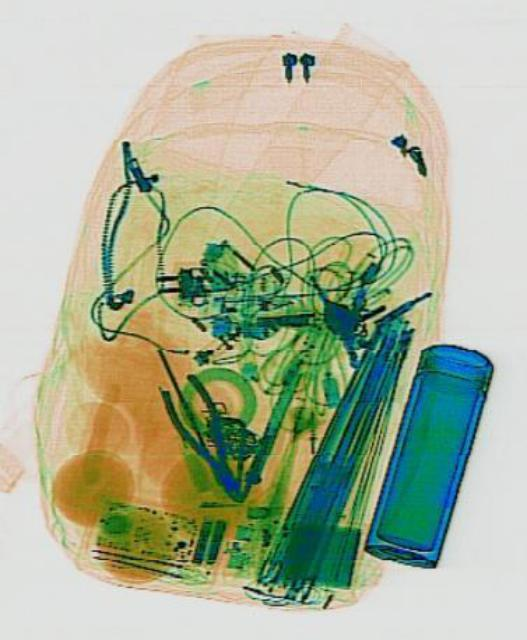Pliers: (152, 364, 257, 514)
